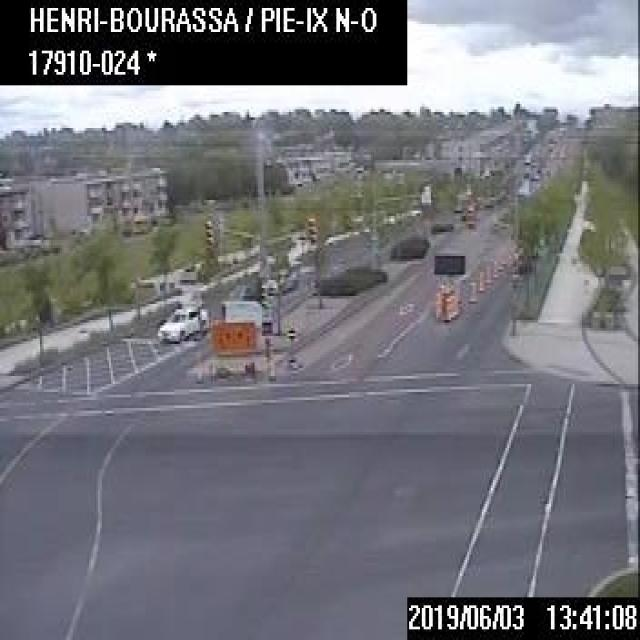construction: (202, 293, 276, 384), (431, 251, 464, 317), (468, 278, 475, 300), (477, 268, 482, 290), (484, 264, 490, 281), (492, 258, 496, 276)
vehicle: (156, 301, 209, 339)
